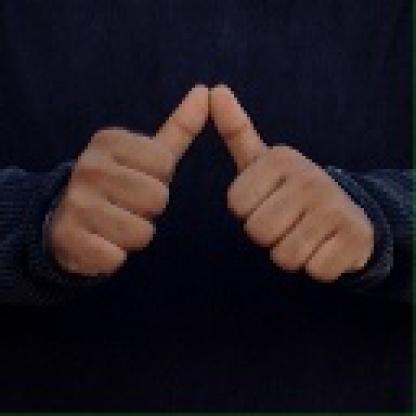A: (33, 75, 387, 297)
